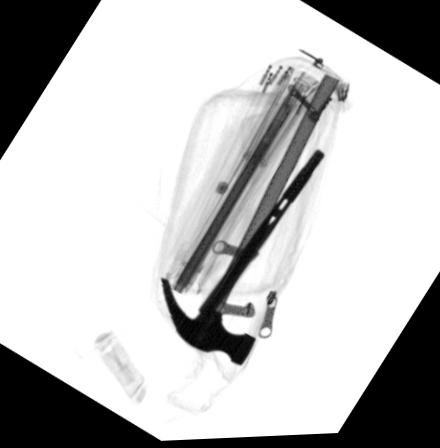Hammer: (161, 76, 337, 368)
Pliers: (196, 150, 325, 316)
